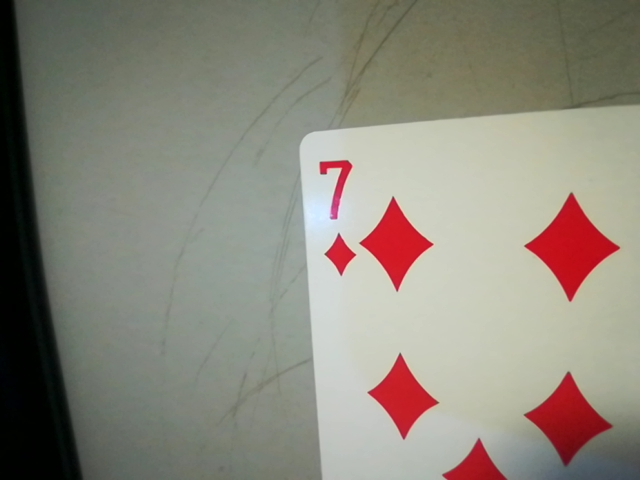fk 7: (305, 147, 357, 282)
